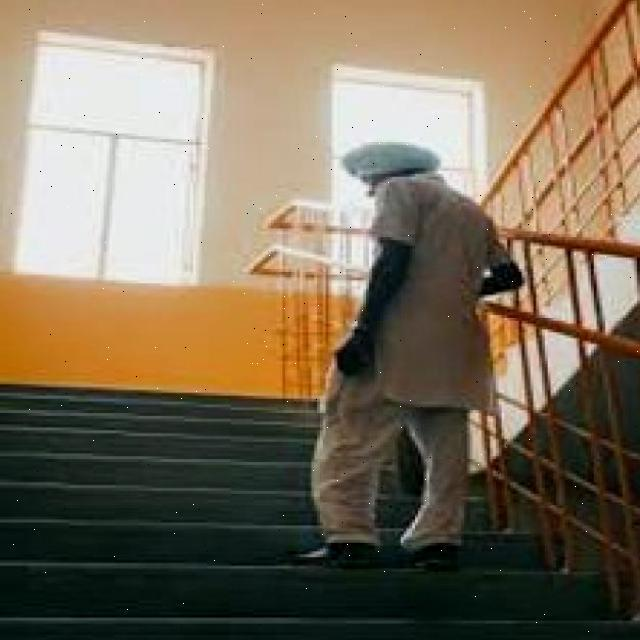stair: (30, 416, 378, 614)
